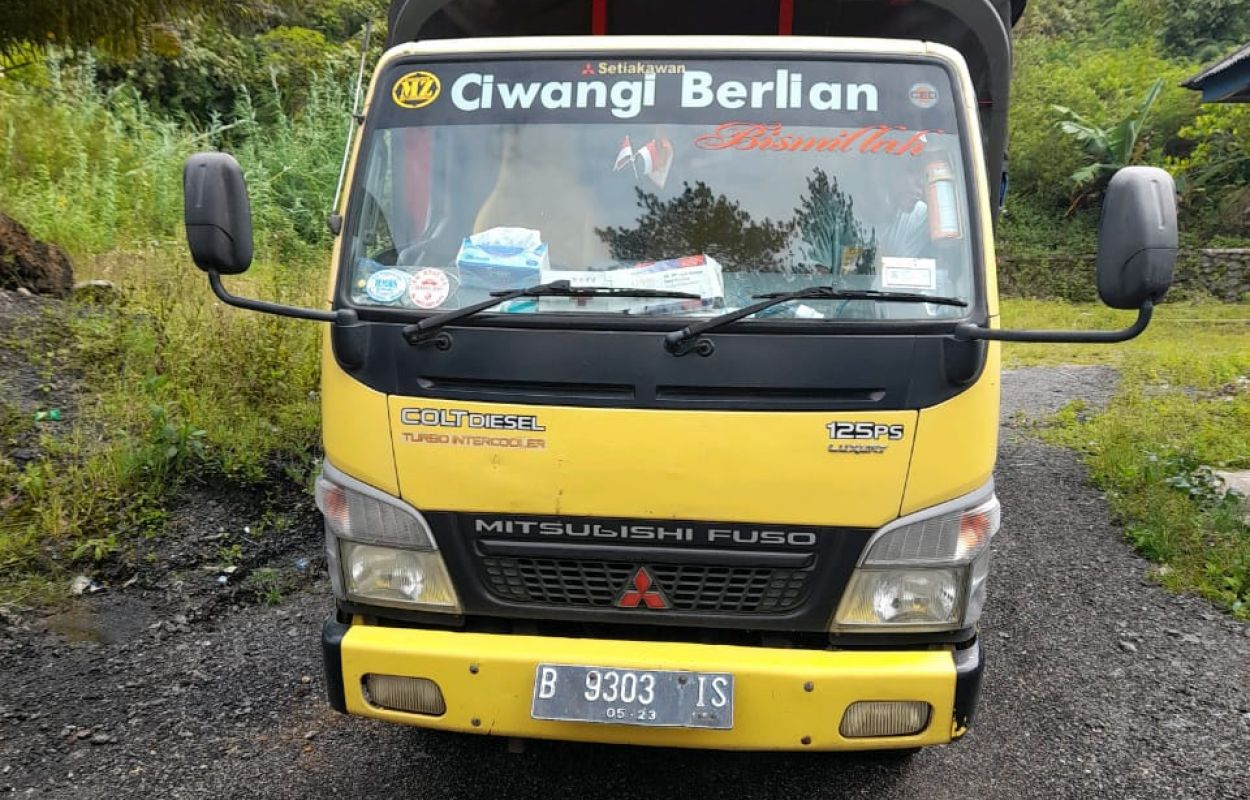plate: (535, 663, 735, 726)
